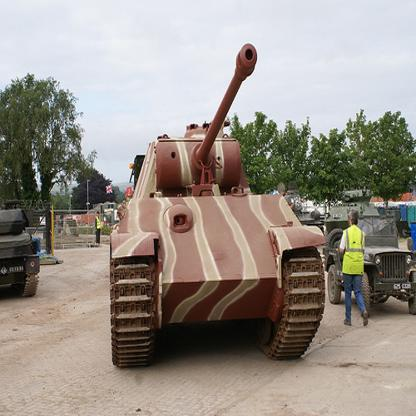Tank: (103, 39, 330, 373)
